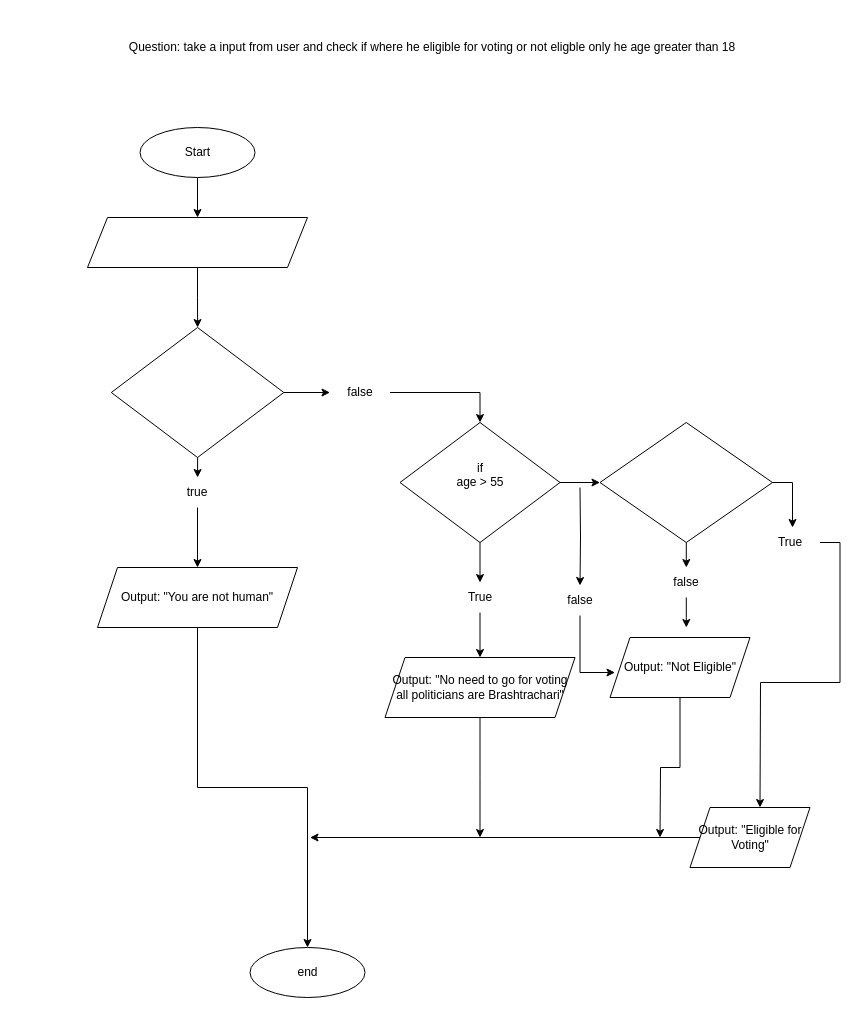
Image size: 865x1015. Some labels were removed from this diagram. The shapes that lost their labels are listed below. From the top down, each one's centre as x and y in pixels, then its label:
At (x=197, y=242): "Input: age".
At (x=197, y=392): "if age > 100 || age < 0".
At (x=685, y=482): "else if age > 18 || age < 54".
